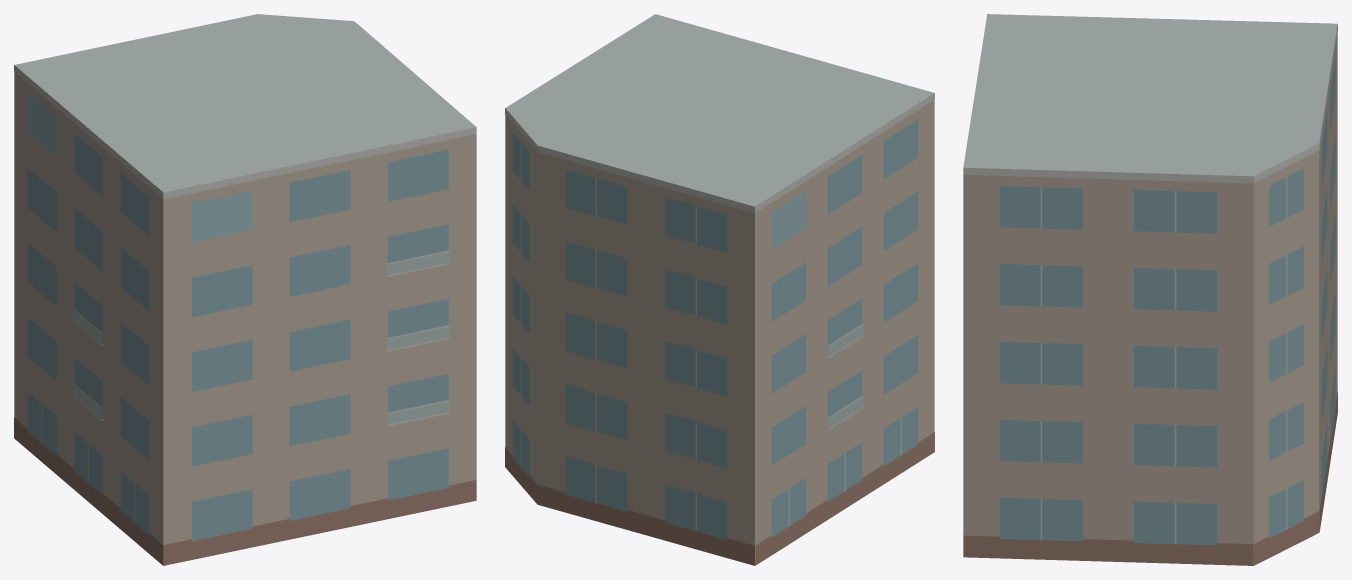
Rendered from survey-upis-32986816.glb.
The picture shows the model from 3 angles, left to right: view 1: azimuth 30°, elevation 25°; view 2: azimuth 150°, elevation 25°; view 3: azimuth 270°, elevation 25°; orthographic projection. The views are drawn at different scales.
Visible parts, largest first — view 1: survey-upis-32986816.tmp; view 2: survey-upis-32986816.tmp; view 3: survey-upis-32986816.tmp.
Boxes of the visible parts, x1,y1,x2,y2 form: survey-upis-32986816.tmp: (14, 14, 476, 565); survey-upis-32986816.tmp: (505, 14, 934, 565); survey-upis-32986816.tmp: (963, 14, 1337, 565).
Size of the model in its own units: 11.89 by 13.3 by 11.6.
